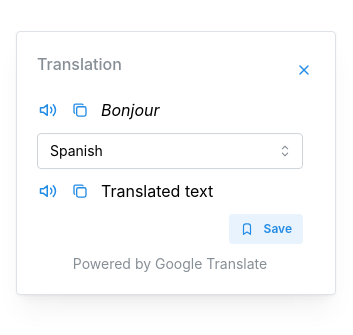
TranslationPopup › should show error message when save fails
Click the button "Save" at (266, 229), box [229,214,303,244]
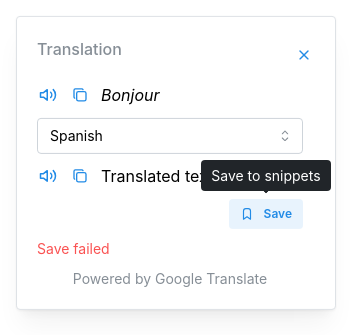
Expected: the button "Save" is enabled, [264,206,292,220]
Expected: the text "Save failed" is shown, [37,240,110,256]
